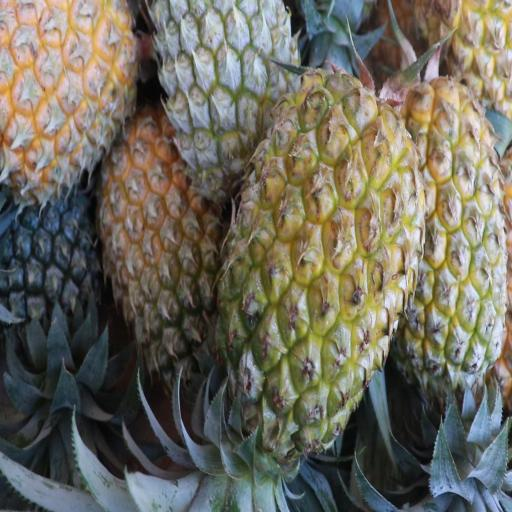------------------------------: (100, 112, 215, 371)
Pineapple - v8 v1: (214, 69, 417, 425), (392, 75, 505, 382), (0, 0, 136, 178)
